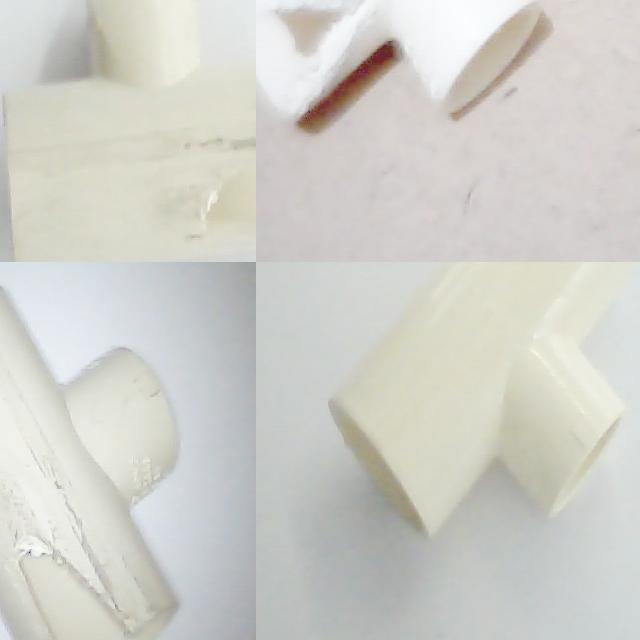Defective: (256, 0, 365, 117), (17, 556, 122, 640), (199, 118, 256, 231)
T Joint: (327, 262, 637, 541), (2, 0, 256, 262), (256, 0, 553, 126)
